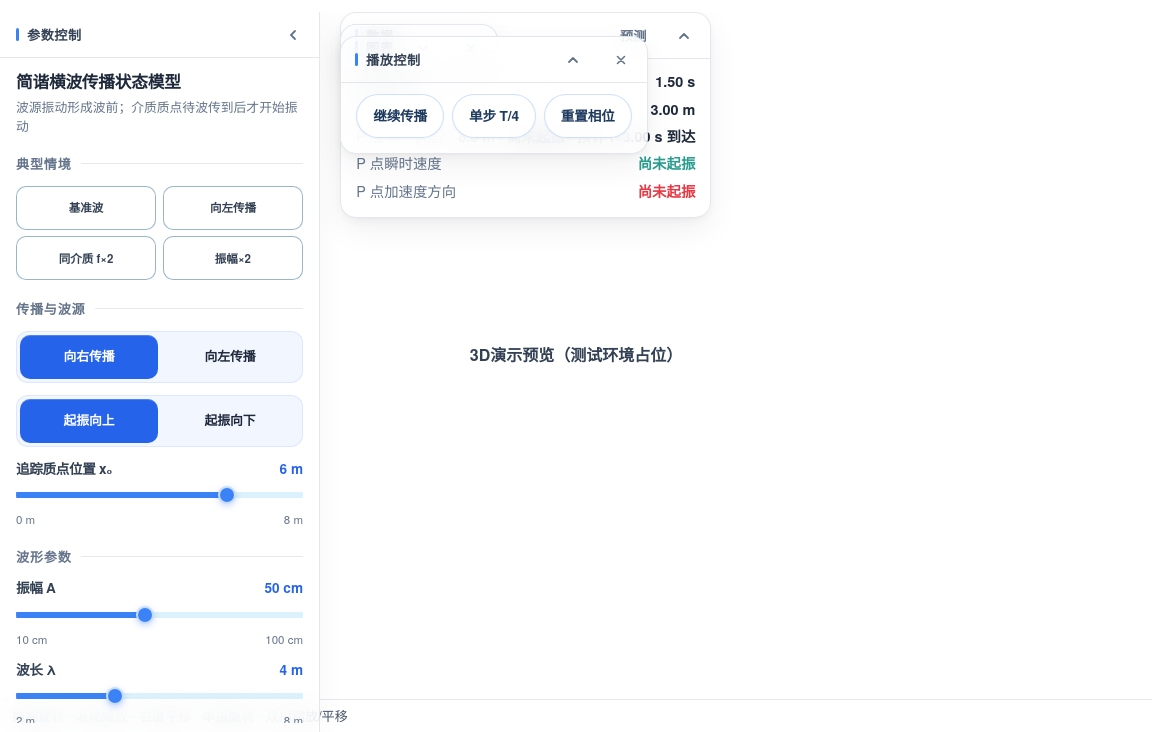
it: wave-state structure › switches direction, toggles the ghost wave and pauses propagation
The width and height of the screenshot is (1152, 732).
Step 1. Click the radio button labelled "向左传播" → {"x": 230, "y": 356}, box top-left (161, 334), bottom-right (299, 378)
(page scrolled)
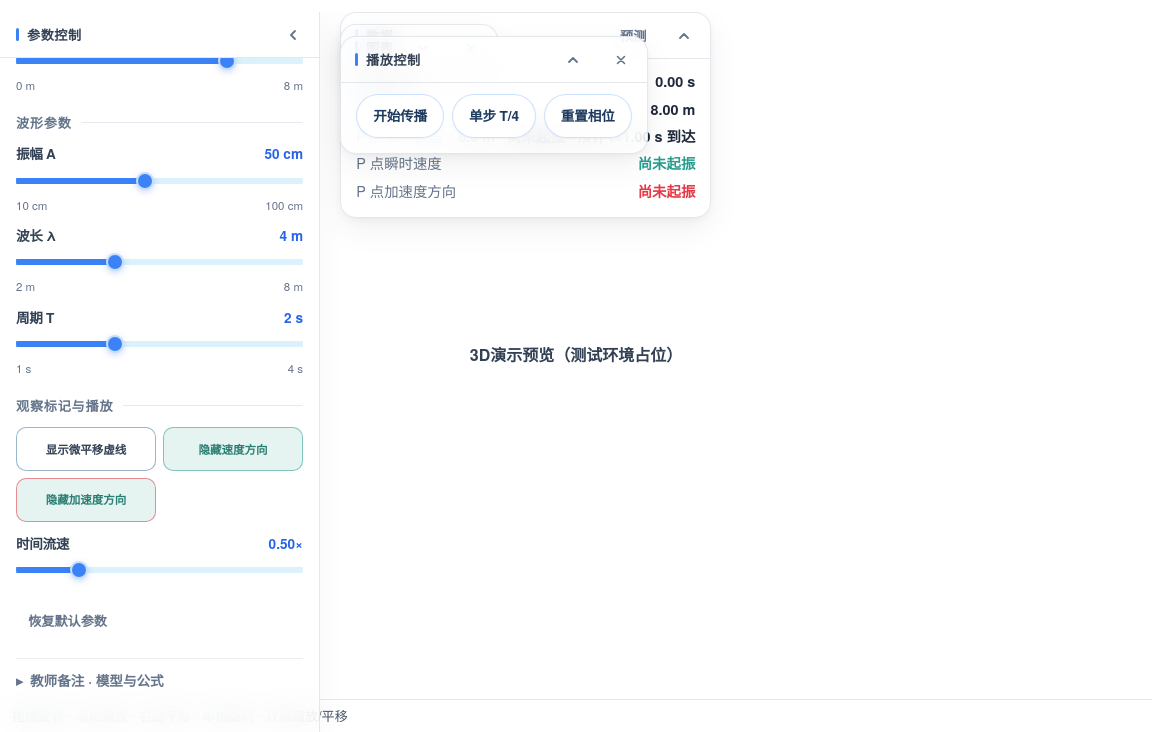
Step 2. Click the button "显示微平移虚线" → {"x": 86, "y": 449}, box top-left (16, 427), bottom-right (156, 471)
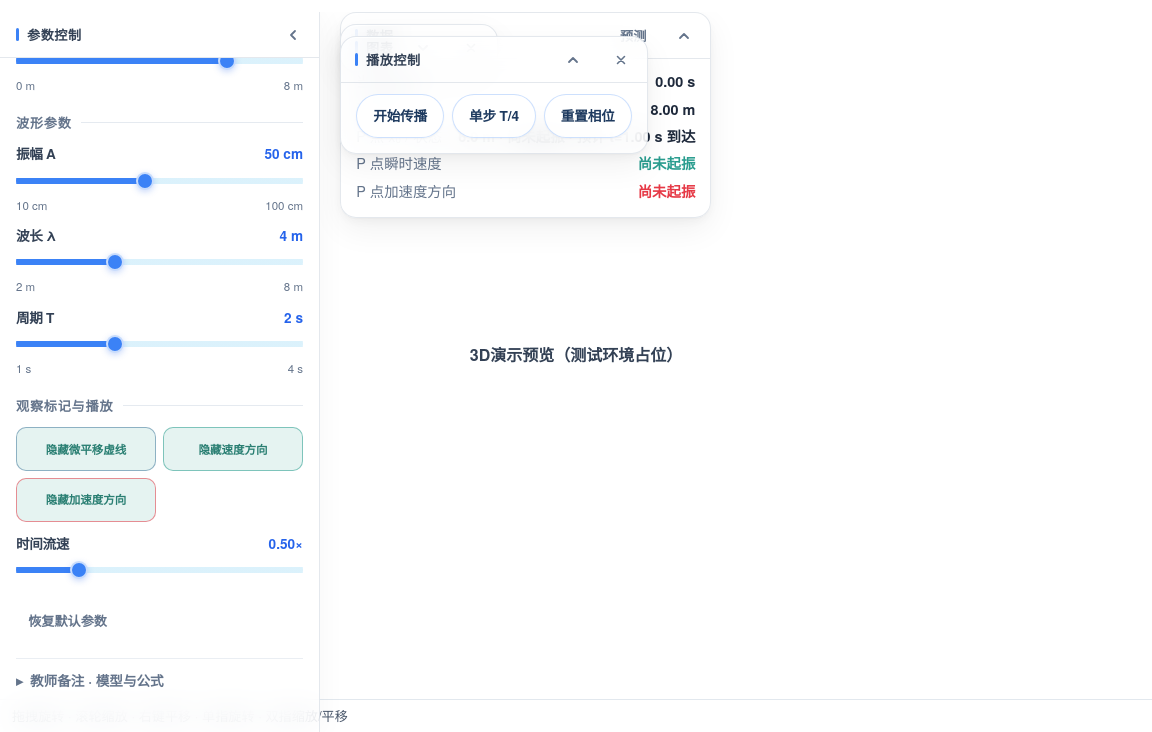
Check: the button "隐藏微平移虚线" is shown, box top-left (16, 427), bottom-right (156, 471)
Step 3. Click the button "开始传播" → {"x": 400, "y": 116}, box top-left (356, 94), bottom-right (444, 138)
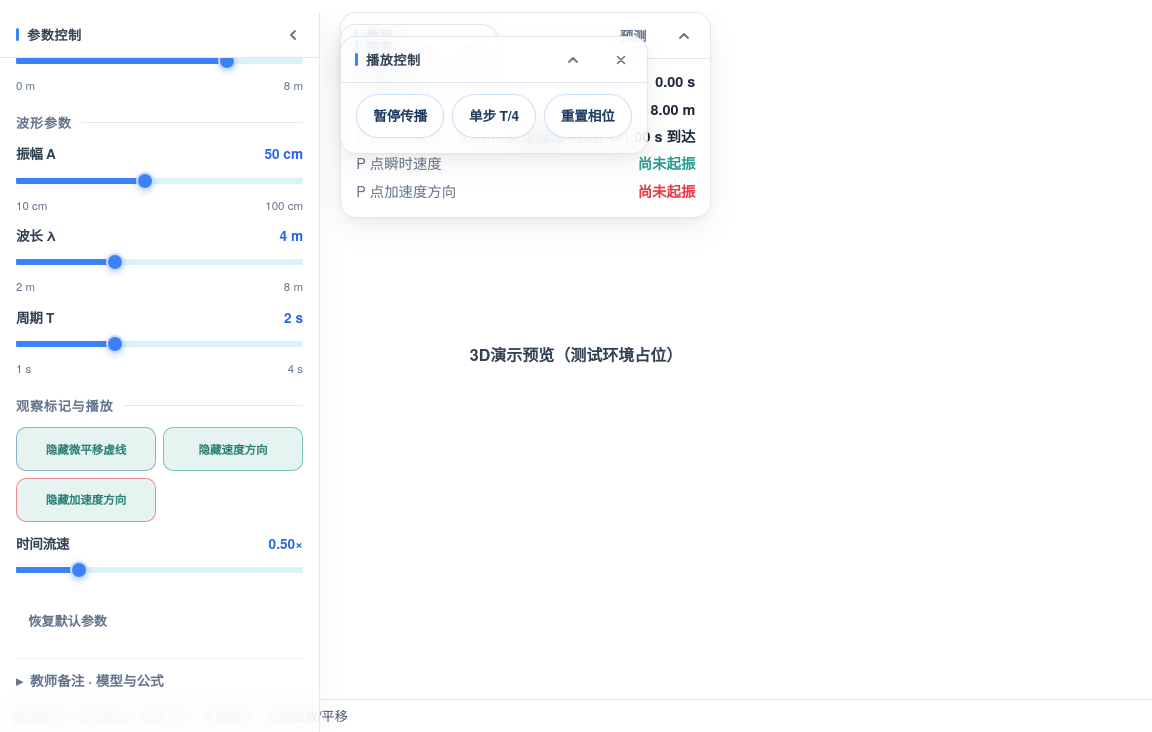
Check: the button "暂停传播" is shown
Step 4. Click the button "暂停传播" → {"x": 400, "y": 116}, box top-left (356, 94), bottom-right (444, 138)
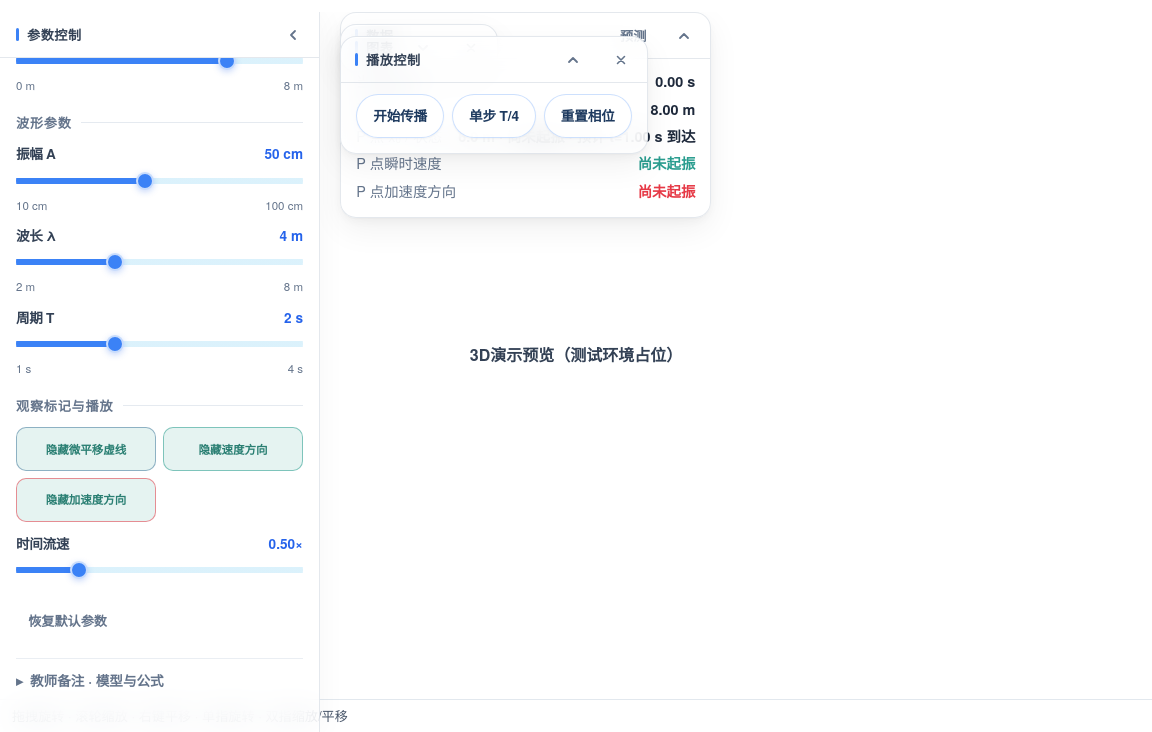
Check: the button "开始传播" is shown, box top-left (356, 94), bottom-right (444, 138)
